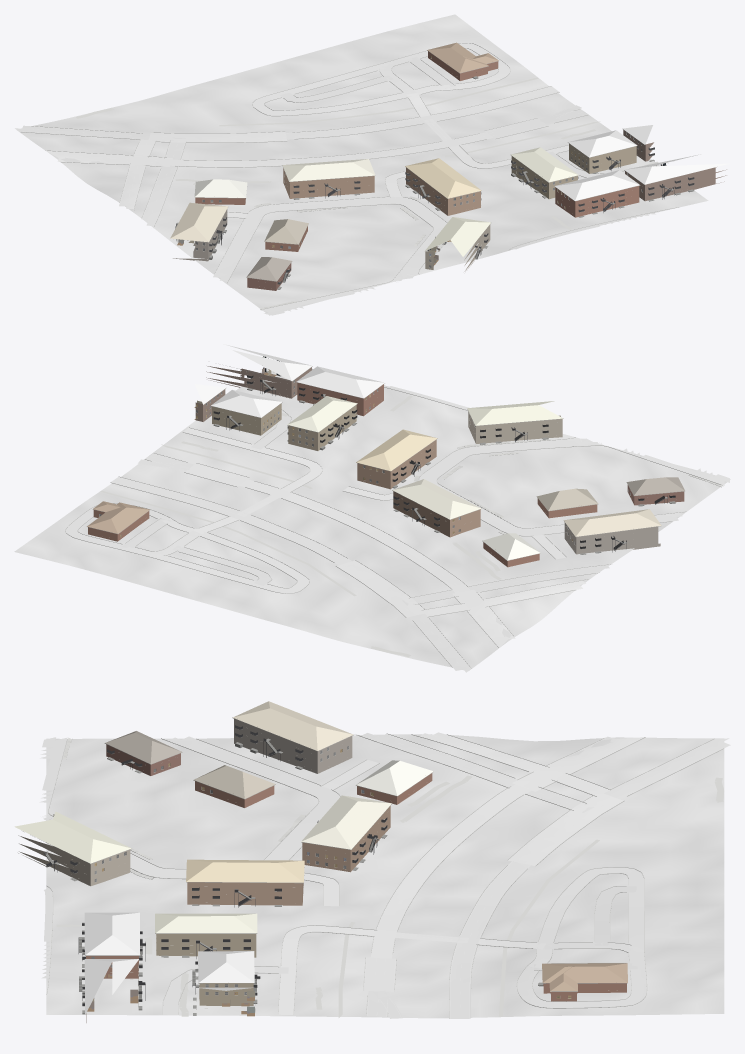
3 renders of one model, top to bottom at view 1: azimuth 30°, elevation 25°; view 2: azimuth 150°, elevation 25°; view 3: azimuth 270°, elevation 25°, orthographic. The views are drawn at different scales.
Visible parts, largest first — view 1: ground, roof, asphalt, concrete, wall, curb, detail, walk, rail, mark_w, mark_y; view 2: ground, roof, wall, asphalt, concrete, curb, detail, walk, rail, mark_w; view 3: ground, roof, asphalt, concrete, wall, curb, detail, walk, rail, mark_w, mark_y, room.
Boxes of the visible parts, x1,y1,x2,y2 form: ground: (16,14,708,315); roof: (170,42,729,281); asphalt: (15,86,586,226); concrete: (213,43,659,315); wall: (173,51,726,290); curb: (21,43,679,309); detail: (176,50,694,289); walk: (76,77,658,309); rail: (175,147,694,284); mark_w: (32,86,587,275); mark_y: (23,93,575,218); ground: (14,368,730,670); roof: (87,345,684,560); wall: (88,366,684,567); asphalt: (111,453,609,672); concrete: (65,384,729,593); curb: (65,368,722,667); detail: (87,356,684,560); walk: (100,395,723,657); rail: (213,358,675,549); mark_w: (111,439,608,666); ground: (46,734,724,1018); roof: (14,701,627,1014); asphalt: (361,732,730,1018); concrete: (39,736,646,1014); wall: (18,719,626,1022); curb: (46,733,723,1018); detail: (23,717,627,1015); walk: (56,737,724,1017); rail: (46,725,387,1005); mark_w: (360,734,722,1018); mark_y: (386,734,699,1018); room: (53,749,570,1016).
Bounding box in the file's own units: 280 × 18.65 × 264.
